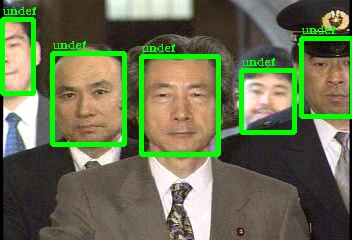man: (123, 34, 241, 157), (48, 46, 128, 146), (236, 47, 301, 125), (293, 36, 352, 117), (2, 1, 40, 96)
